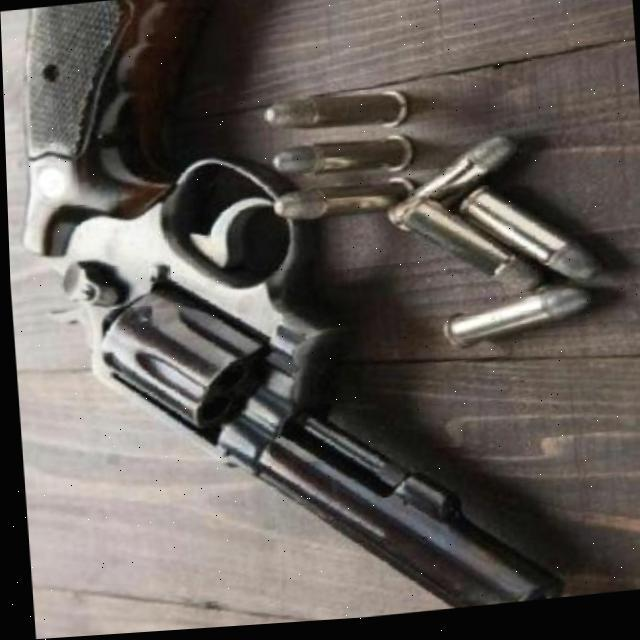gun: (2, 0, 557, 640)
